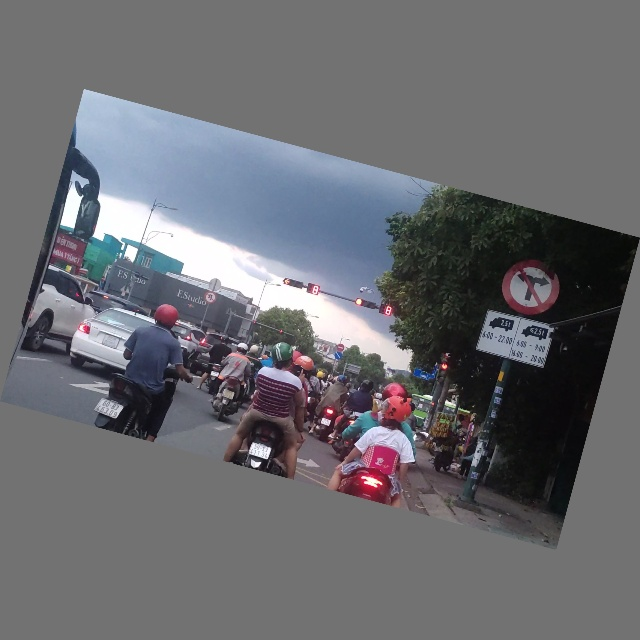P.102: (336, 344, 345, 353)
P.124a*: (203, 290, 218, 306)
P.137: (496, 254, 566, 322)
R.302a: (333, 351, 343, 361)
S.505a*Xe tai: (475, 309, 555, 370)
